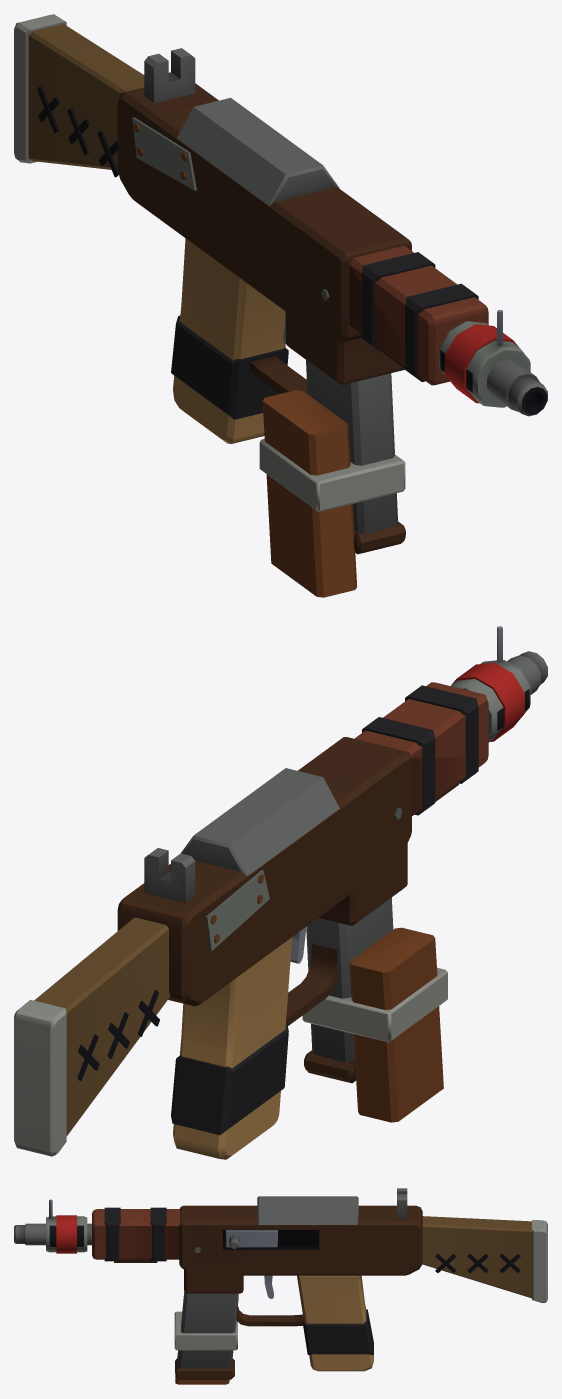
File: bootleg_rifle.glb
3 views of the same model, one above another, from view 1: azimuth 30°, elevation 25°; view 2: azimuth 150°, elevation 25°; view 3: azimuth 270°, elevation 25° (orthographic). The views are drawn at different scales.
Parts seen in each view (by area): view 1: frame, mag; view 2: frame, mag; view 3: frame, mag, bolt.
Part boxes in pixels (x1=…): frame: x1=14, y1=14, x2=547, y2=443; mag: x1=259, y1=360, x2=405, y2=597; frame: x1=14, y1=626, x2=547, y2=1159; mag: x1=302, y1=897, x2=447, y2=1122; frame: x1=14, y1=1188, x2=547, y2=1371; mag: x1=174, y1=1292, x2=238, y2=1384; bolt: x1=225, y1=1230, x2=277, y2=1249.
Size of the model in its own units: 0.326 by 0.95 by 2.32.
Materials: 1 (1 with a texture image).
